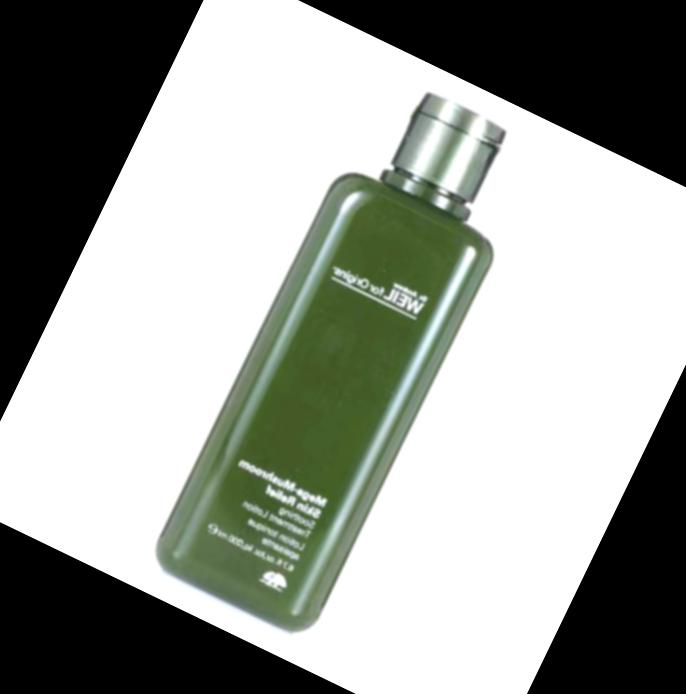cosmetic: (142, 62, 552, 646)
